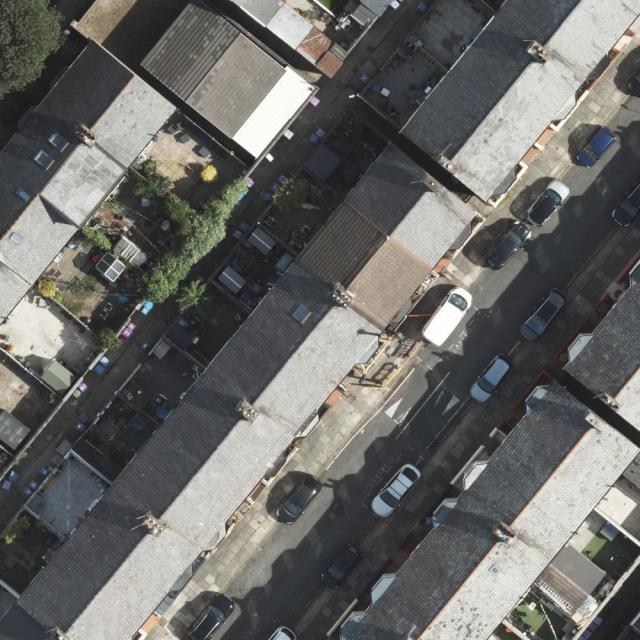roof: (0, 139, 482, 640), (347, 374, 640, 640), (0, 38, 178, 332), (399, 0, 640, 206), (139, 0, 319, 163), (564, 271, 640, 437)
skylight: (286, 299, 319, 329), (48, 129, 71, 154), (34, 148, 55, 171), (7, 229, 24, 247), (16, 187, 32, 204), (490, 561, 500, 575)
